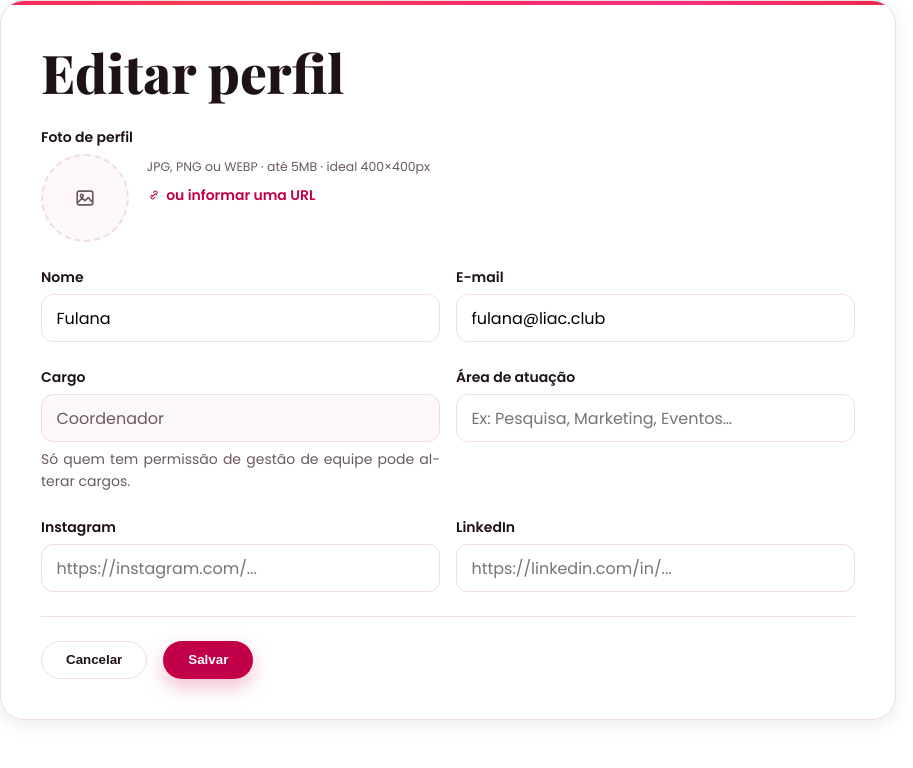
ProfileForm › saves the edited name/email/socials without sending role
Replace the text in the field labelled "Nome" with "Fulana Nova": x=240, y=318 [41,294,440,342]
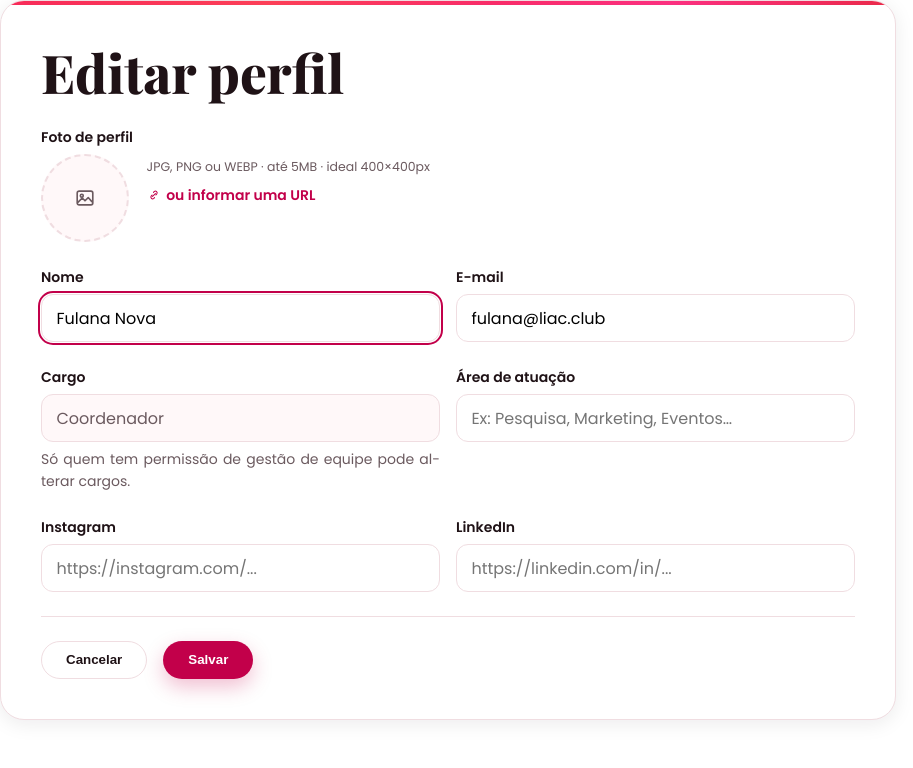
Replace the text in the field labelled "E-mail" with "nova@liac.club": x=656, y=318 [456,294,855,342]
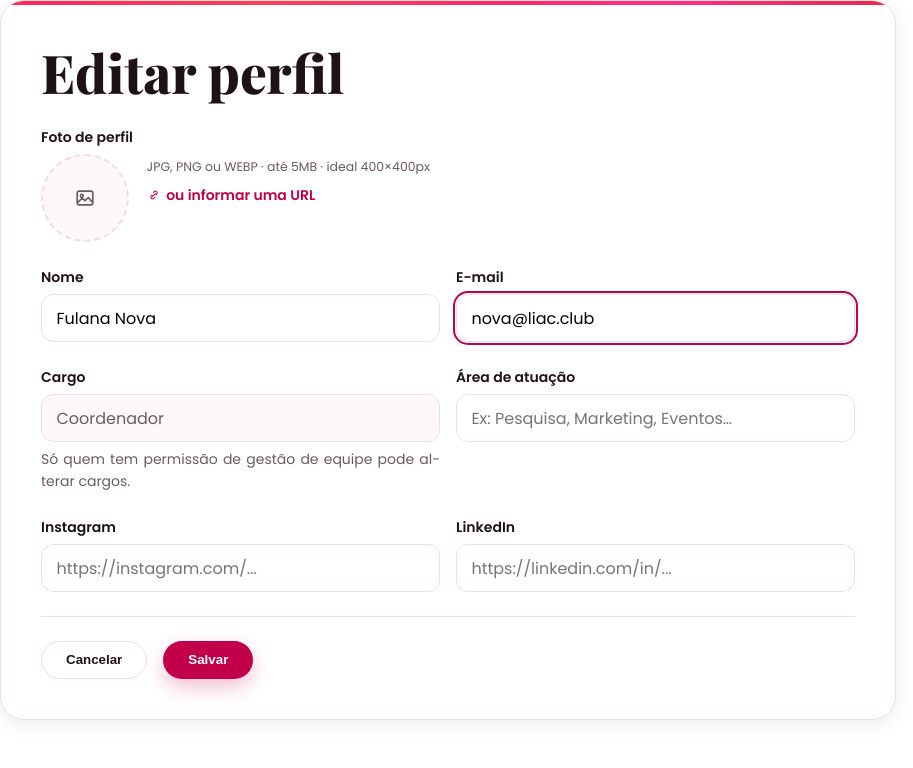
In the field labelled "Instagram": x=240, y=568 [41,544,440,592], type "https://instagram.com/fulana"
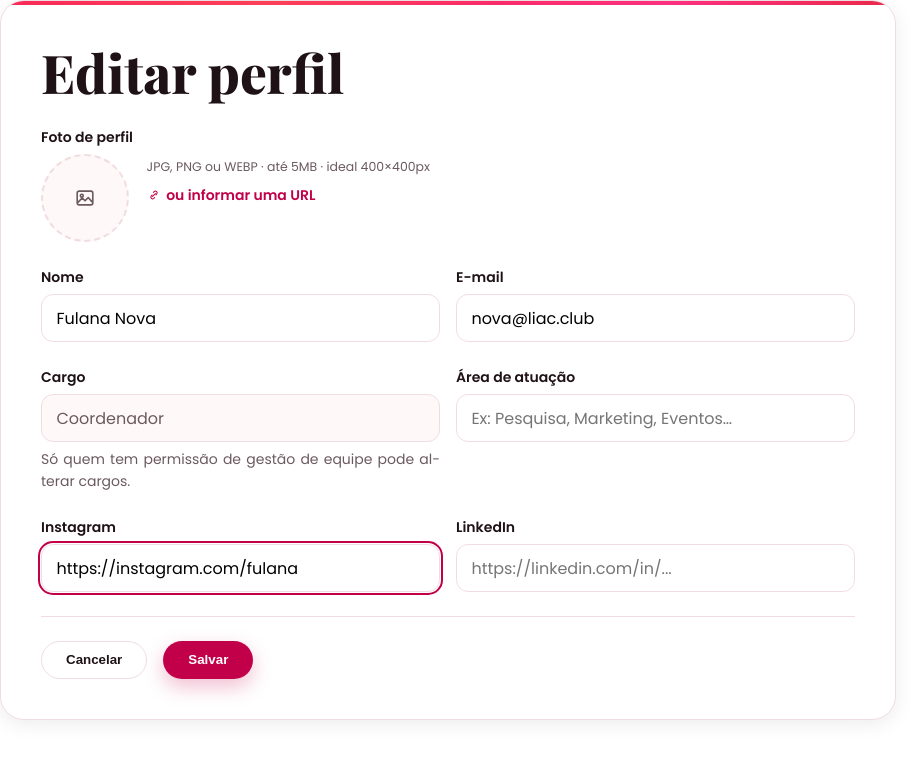
Click the button "Salvar": x=208, y=660 [163,641,253,679]
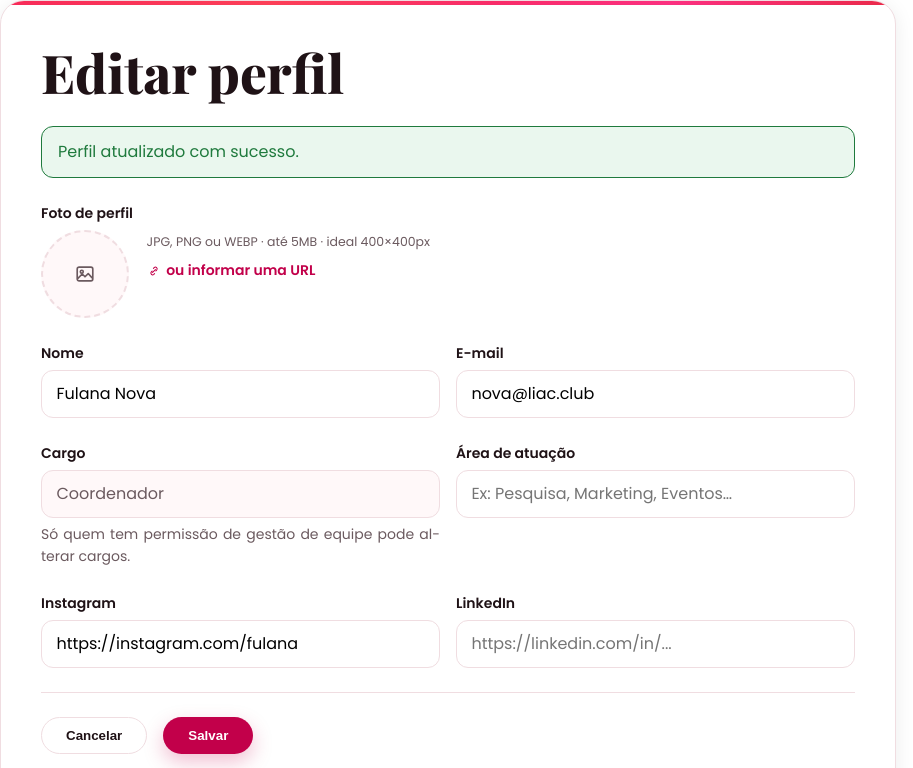
Check: the text "Perfil atualizado com sucesso." is shown, box [41,126,855,178]
